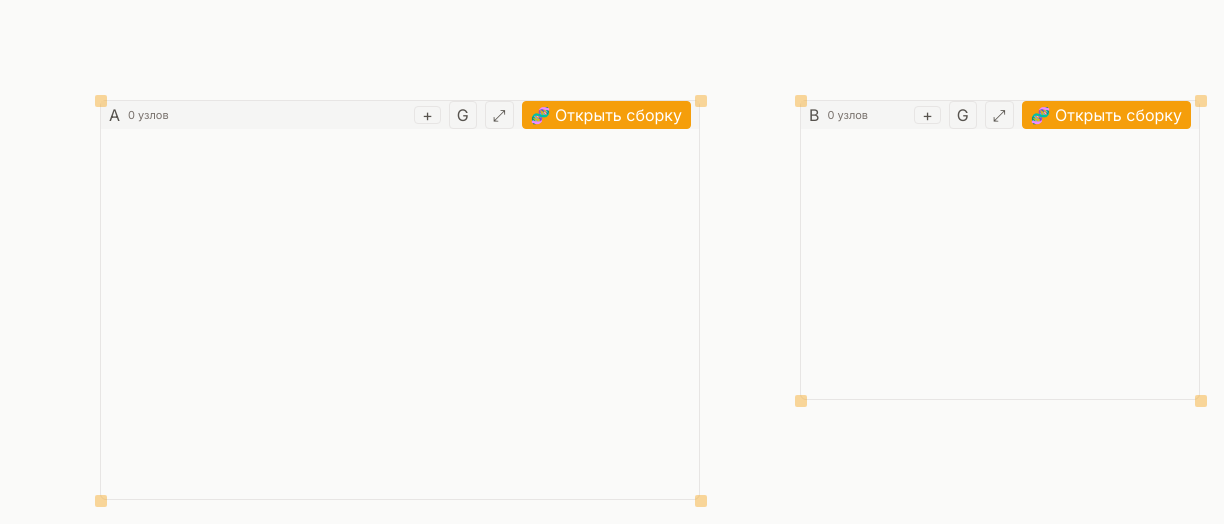
Test: T4 K5 ZoneLayer › right-click header opens ZoneContextMenu; Esc closes it
Right-click the element with test id "zone-header-zn-1" at (400, 115), box [101,101,699,129]
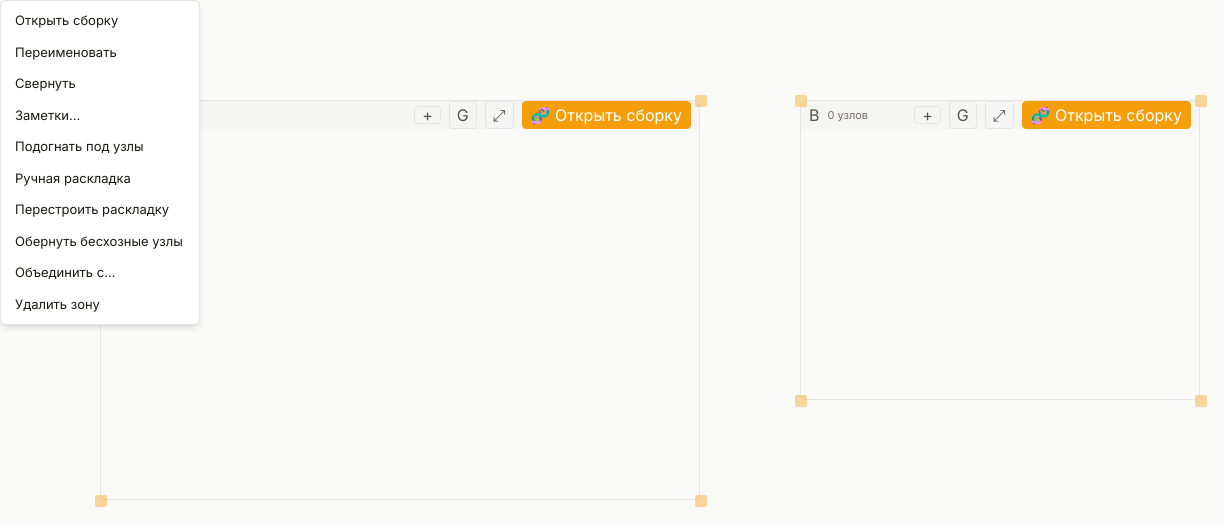
Now the element with test id "zone-menu" is shown, box [0,0,200,325]
Press Escape
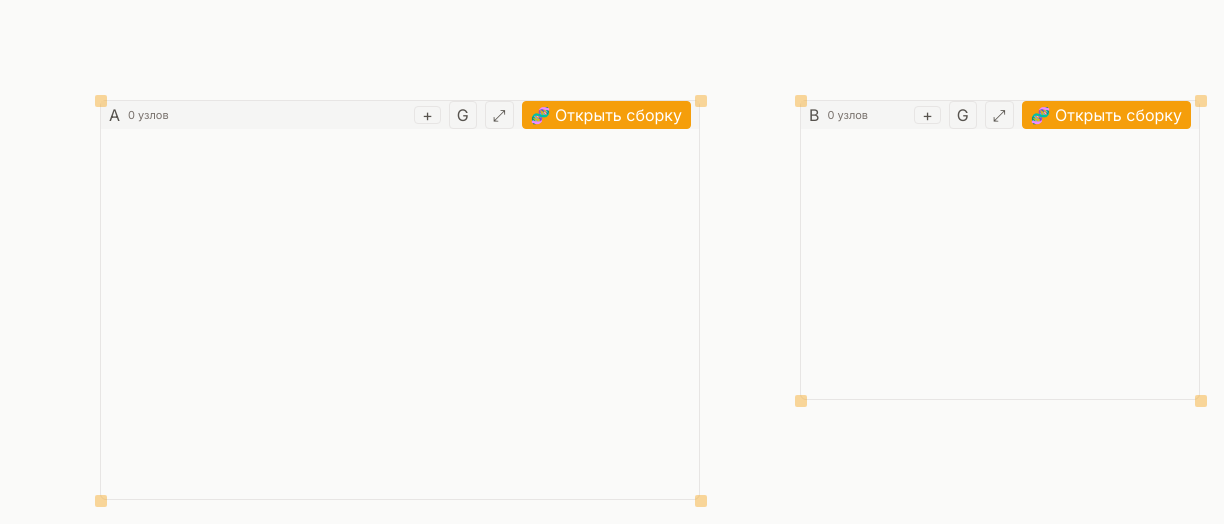
Now the element with test id "zone-menu" is gone
